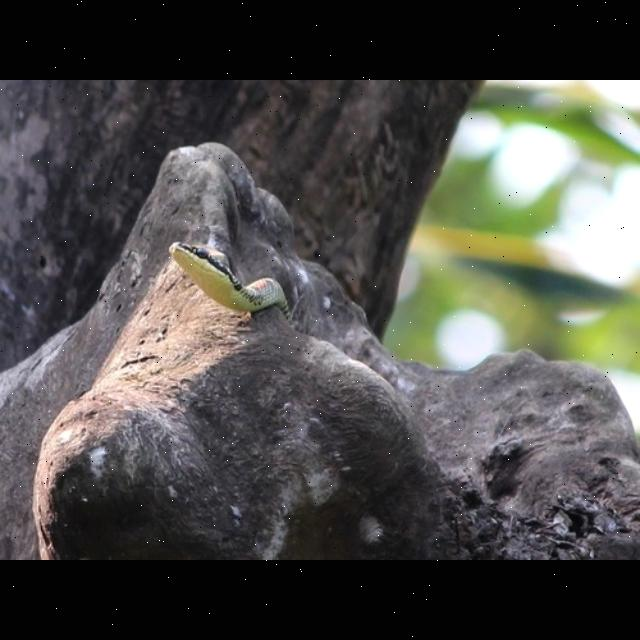snake: (170, 232, 302, 338)
